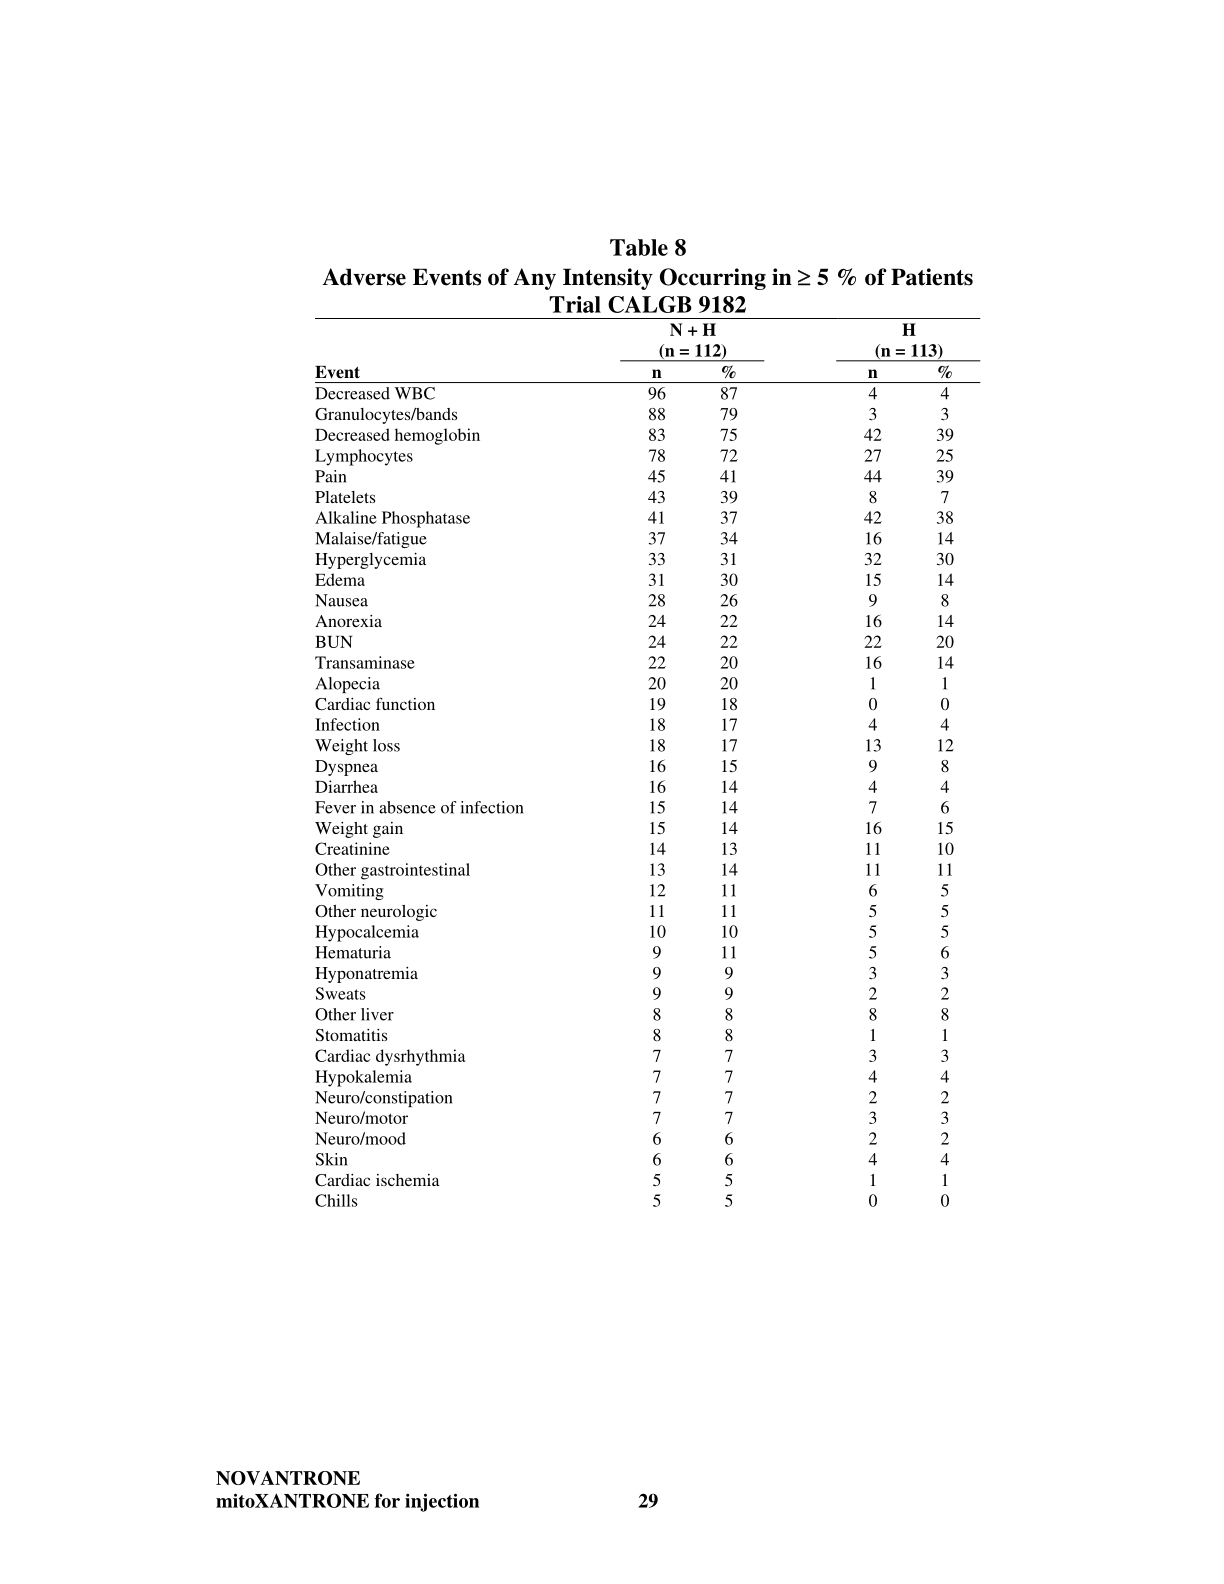partial_lined_merged_cells: (310, 316, 984, 1212)
